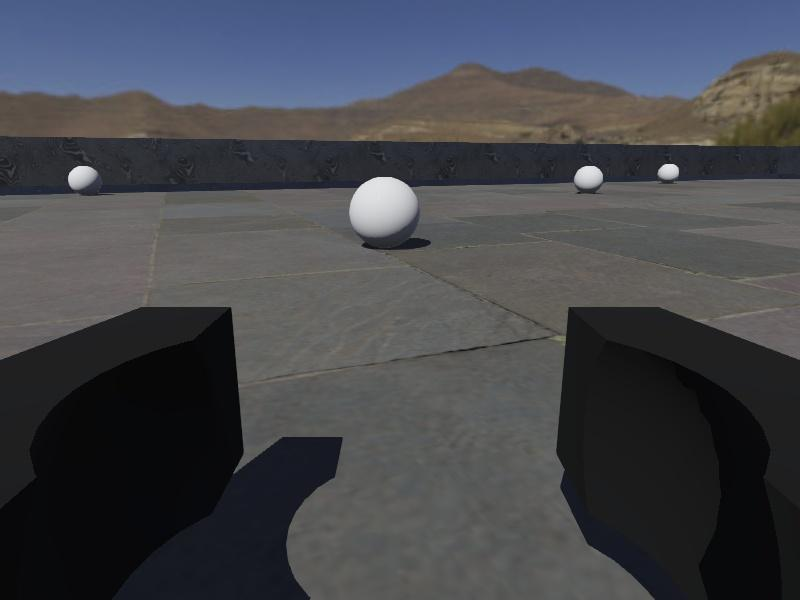white ball: (349, 176, 422, 247), (68, 165, 103, 196), (575, 163, 605, 195), (657, 162, 681, 185)
